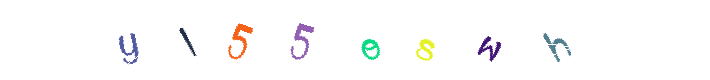5: (292, 0, 372, 80), (296, 0, 376, 80)
H: (385, 0, 465, 80)
L: (275, 0, 355, 80)
O: (315, 0, 395, 80)
S: (330, 0, 410, 80)
W: (347, 0, 427, 80)
Y: (200, 0, 280, 80)
